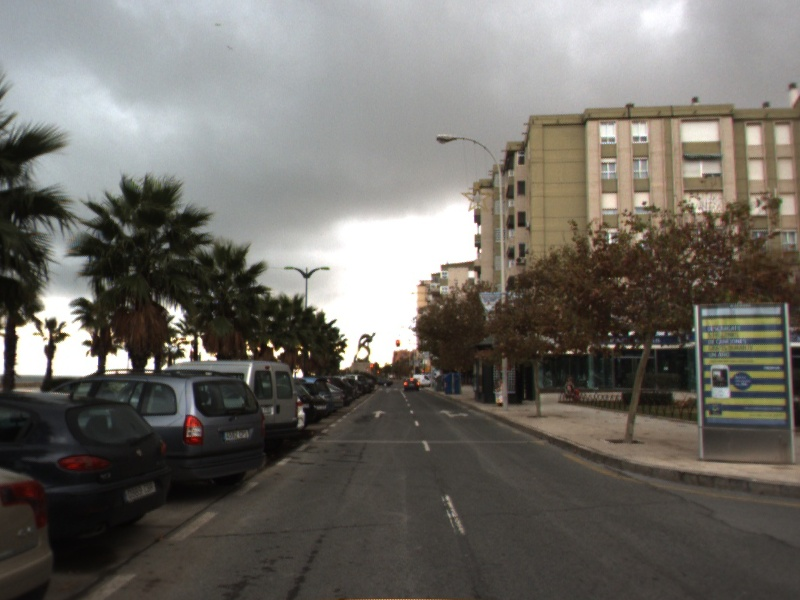STRAIGHT: (370, 408, 388, 419)
STRAIGHT_RIGHT: (438, 408, 471, 420)
